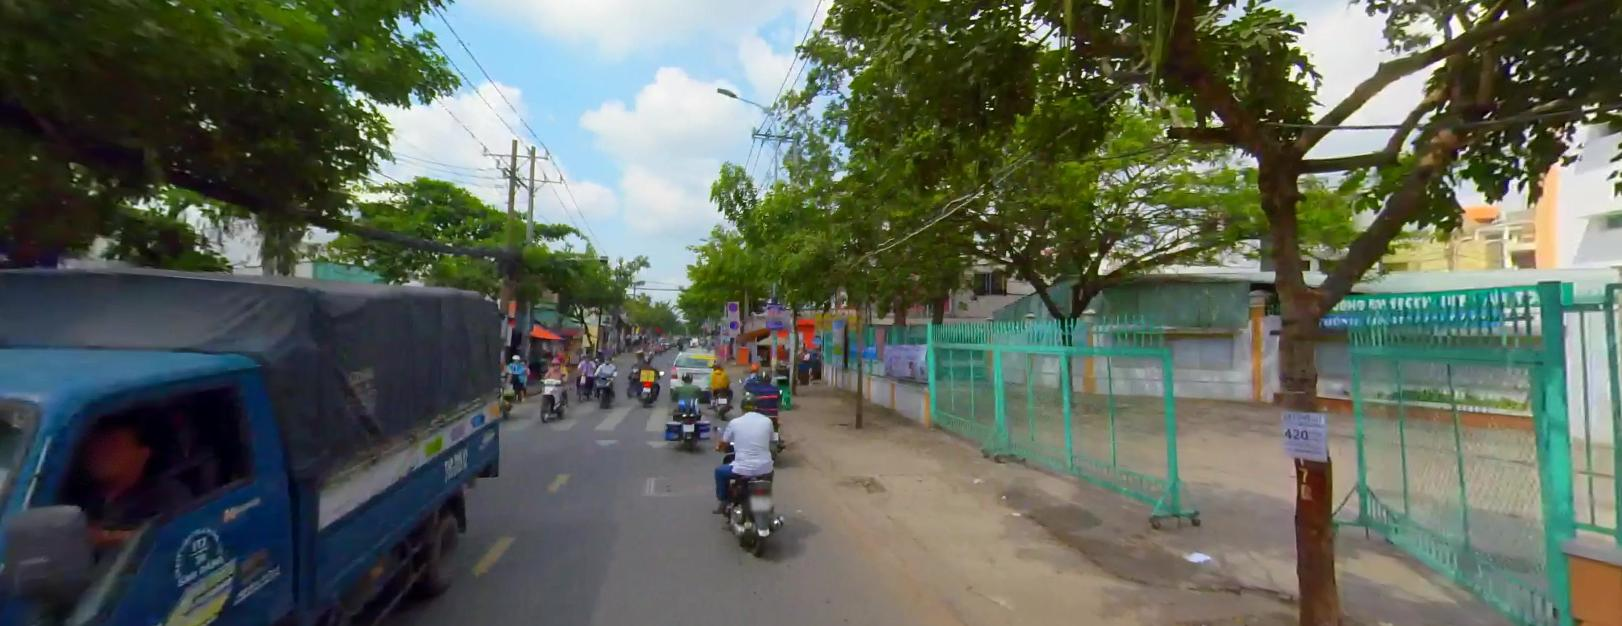Cam dung va do: (729, 319, 739, 328), (729, 319, 738, 329), (728, 300, 737, 310), (728, 301, 737, 310)
